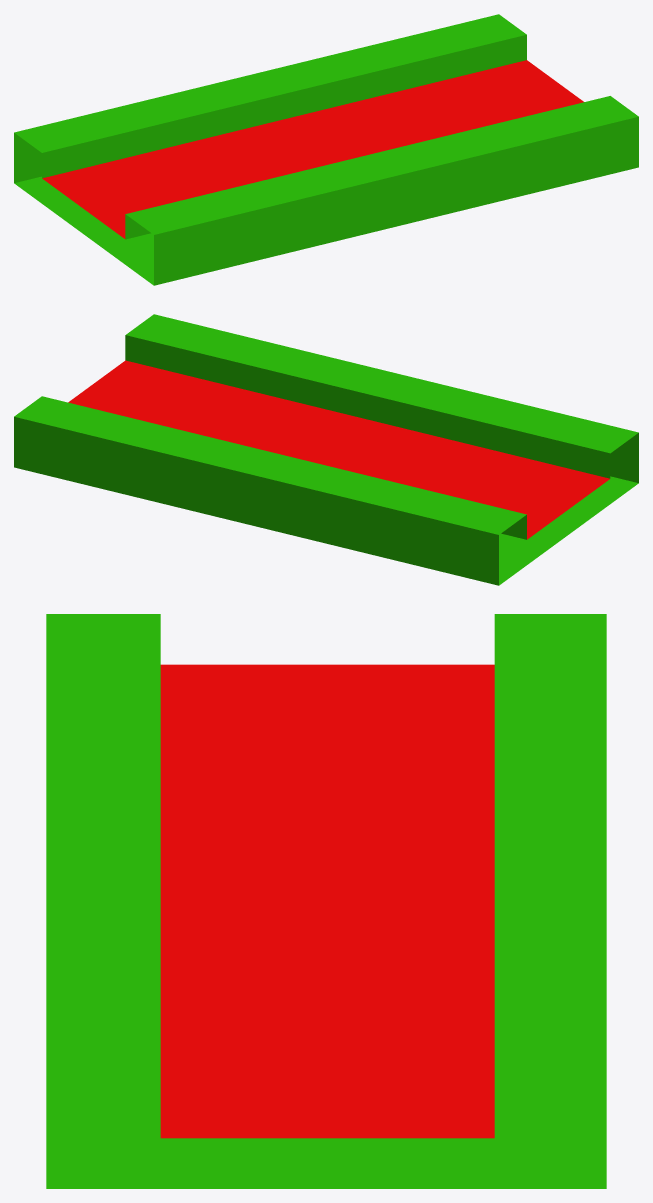
Rendered from modular_pieces_center.FBX.
3 renders of one model, top to bottom at view 1: azimuth 30°, elevation 25°; view 2: azimuth 150°, elevation 25°; view 3: azimuth 270°, elevation 25°, orthographic. The views are drawn at different scales.
Visible parts, largest first — view 1: level2_p003; view 2: level2_p003; view 3: level2_p003.
Boxes of the visible parts, x1=… form: level2_p003: x1=14, y1=14, x2=638, y2=285; level2_p003: x1=14, y1=314, x2=638, y2=585; level2_p003: x1=46, y1=614, x2=606, y2=1188.
Bounding box in the file's own units: 200 × 20 × 100.
